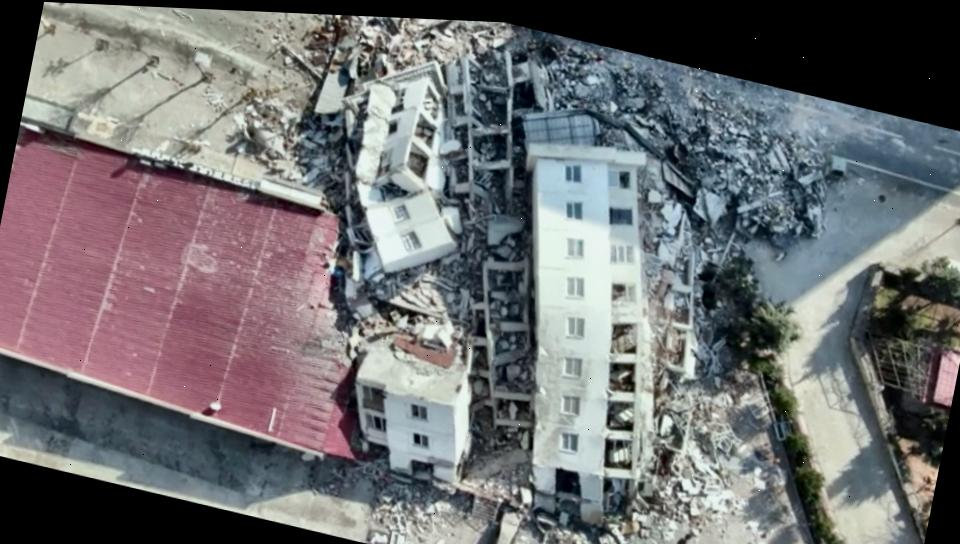kapali: (357, 16, 884, 167)
